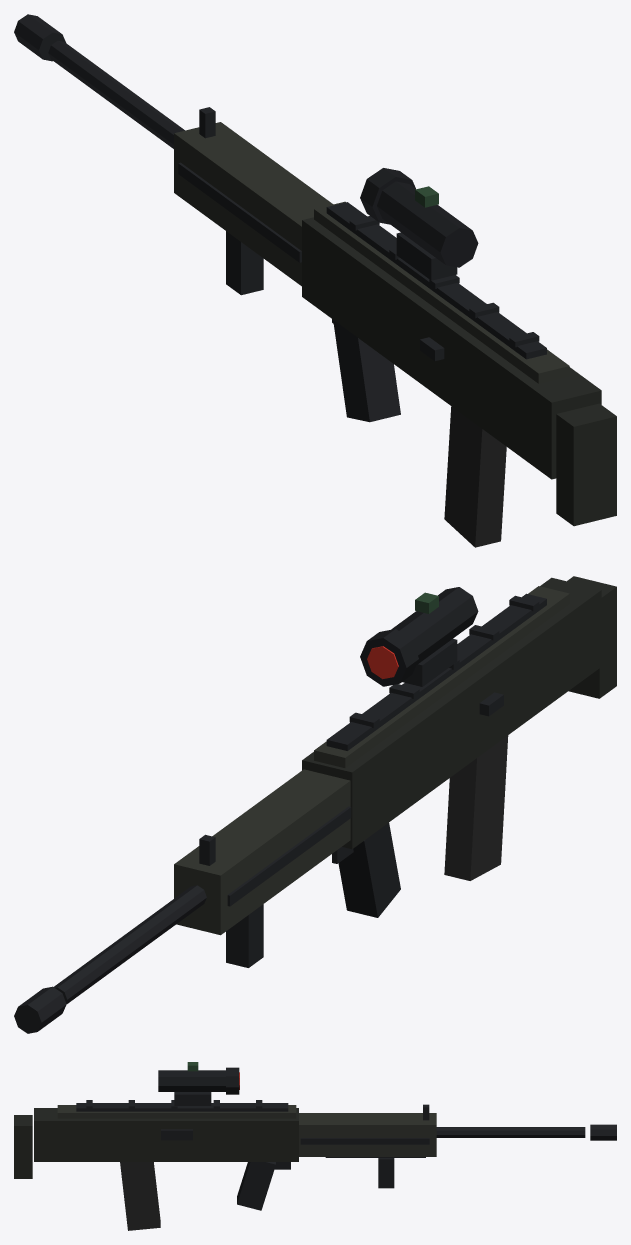
Rendered from weapon_l85a2.glb.
The picture shows the model from 3 angles, top to bottom: view 1: azimuth 30°, elevation 25°; view 2: azimuth 150°, elevation 25°; view 3: azimuth 270°, elevation 25°; orthographic projection. The views are drawn at different scales.
Parts seen in each view (by area): view 1: body, mag; view 2: body, mag, body_glow; view 3: body, mag.
Part boxes in pixels (<box>): body: <box>14,14,616,526</box>; mag: <box>444,406,506,547</box>; body: <box>14,576,616,1033</box>; mag: <box>444,735,508,880</box>; body_glow: <box>367,646,398,679</box>; body: <box>14,1062,616,1210</box>; mag: <box>120,1162,160,1230</box>.
Bounding box in the file's own units: 0.074 × 0.3408 × 1.14.
